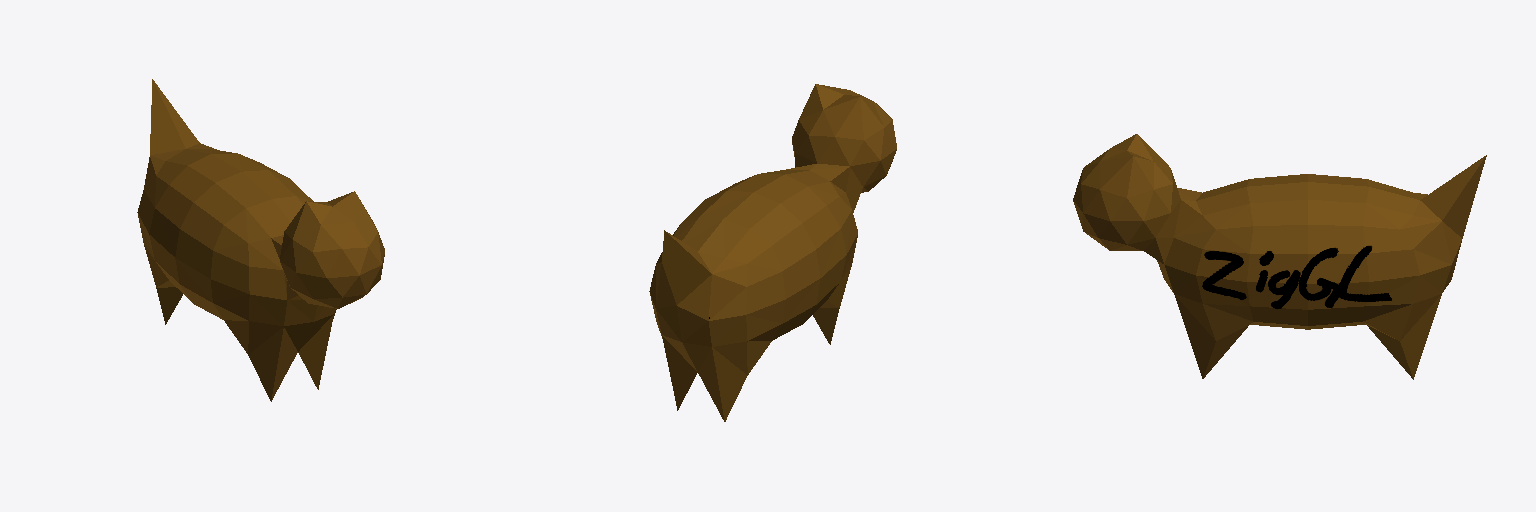
3 views of the same model, side by side, from view 1: azimuth 30°, elevation 25°; view 2: azimuth 150°, elevation 25°; view 3: azimuth 270°, elevation 25° (orthographic).
Parts seen in each view (by area): view 1: Bake; view 2: Bake; view 3: Bake.
Boxes of the visible parts, x1=… form: Bake: x1=137, y1=79, x2=384, y2=401; Bake: x1=649, y1=84, x2=896, y2=421; Bake: x1=1073, y1=134, x2=1486, y2=379.
Bounding box in the file's own units: 0.4839 × 0.7779 × 1.3.
Materials: 1 (1 with a texture image).